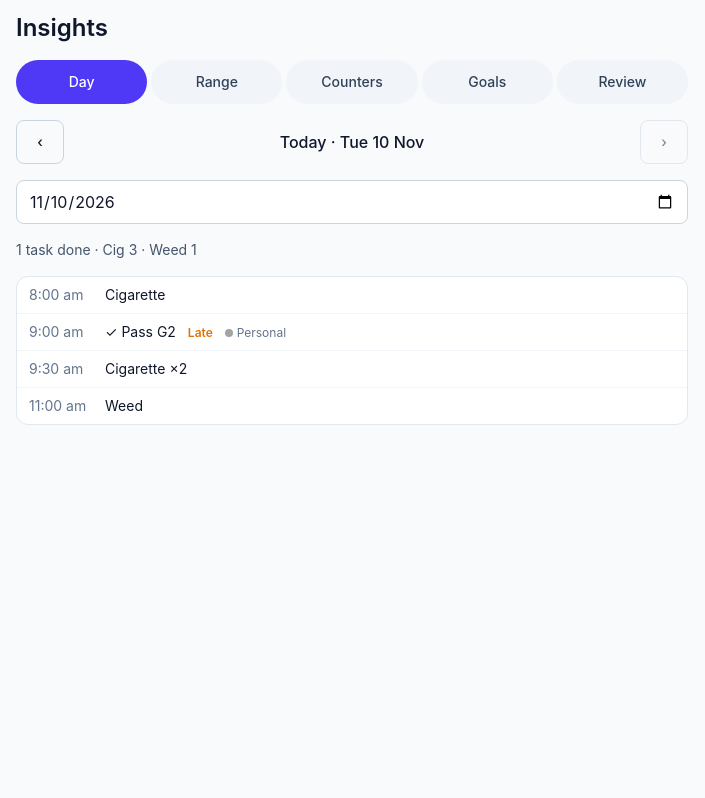
Test: Insights → Range › this week: tasks done, tasks missed and deadlines missed are separate numbers
The width and height of the screenshot is (705, 798).
Click the tab "Range": x=217, y=82 [151,60,282,104]
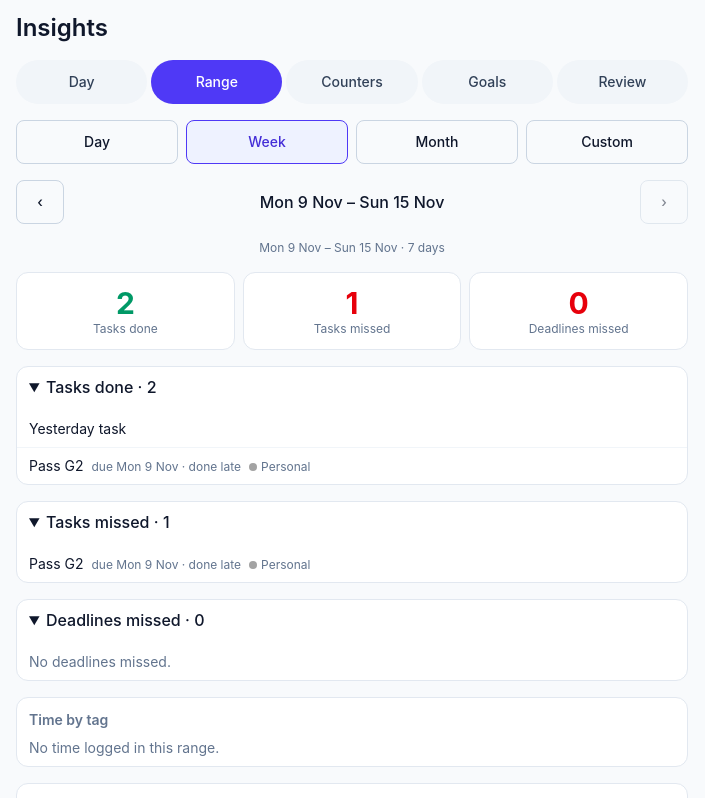
Check: the text named "Deadlines missed: 0" is shown, box [568,285,589,321]
Check: the text named "Tasks done: 2" is shown, box [116,285,135,321]
Check: the text named "Tasks missed: 1" is shown, box [346,285,358,321]
